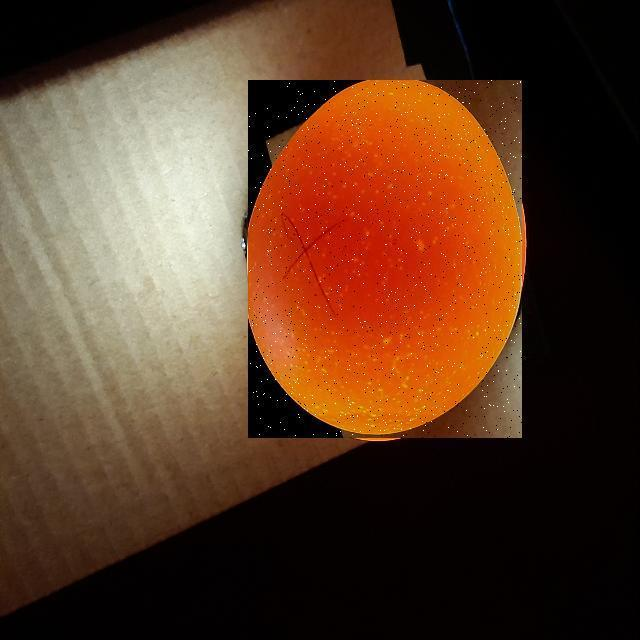A - Good: (247, 78, 526, 439)
